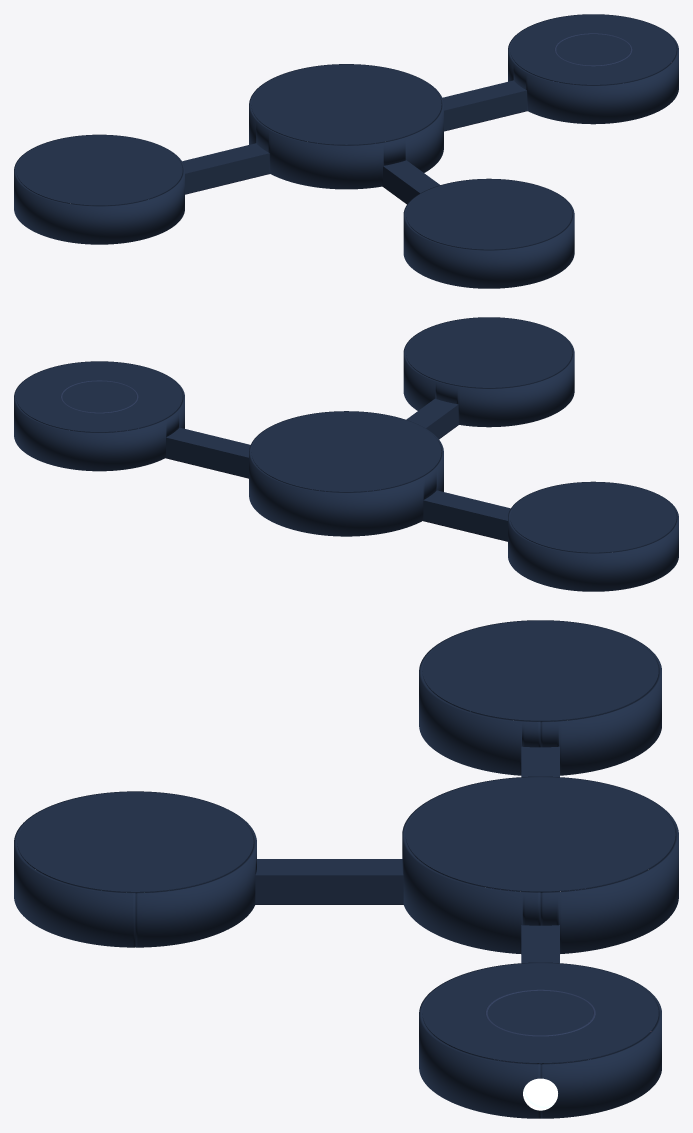
File: UnityNewtonFullEnv_Backup.fbx
3 renders of one model, top to bottom at view 1: azimuth 30°, elevation 25°; view 2: azimuth 150°, elevation 25°; view 3: azimuth 270°, elevation 25°, orthographic. The views are drawn at different scales.
Visible parts, largest first — view 1: Ceiling, Ceiling.002, Ceiling.003, Ceiling.001, MainLobby_Wall, TutorialRoom_Wall, ResultsRoom_Wall, BriefingRoom_Wall, Wall.003, Wall, Ceil.001, Ceil (+2 smaller); view 2: Ceiling, Ceiling.003, Ceiling.002, Ceiling.001, MainLobby_Wall, ResultsRoom_Wall, BriefingRoom_Wall, TutorialRoom_Wall, Wall.002, Wall.001, Ceil.001, Ceil (+2 smaller); view 3: Ceiling, Ceiling.003, Ceiling.002, Ceiling.001, MainLobby_Wall, TutorialRoom_Wall, BriefingRoom_Wall, ResultsRoom_Wall, Wall.005, Ceil.002, Ceil, Ceil.001 (+1 smaller).
Boxes of the visible parts, bbox=[...] form: Ceiling: bbox=[251, 64, 441, 145]; Ceiling.002: bbox=[16, 135, 182, 205]; Ceiling.003: bbox=[406, 179, 572, 249]; Ceiling.001: bbox=[510, 14, 676, 85]; MainLobby_Wall: bbox=[249, 64, 443, 189]; TutorialRoom_Wall: bbox=[403, 178, 574, 288]; ResultsRoom_Wall: bbox=[14, 134, 184, 244]; BriefingRoom_Wall: bbox=[508, 14, 678, 124]; Wall.003: bbox=[185, 154, 269, 193]; Wall: bbox=[444, 91, 526, 130]; Ceil.001: bbox=[182, 143, 269, 174]; Ceil: bbox=[442, 80, 526, 111]; Ceiling: bbox=[251, 411, 441, 492]; Ceiling.003: bbox=[406, 317, 572, 388]; Ceiling.002: bbox=[510, 482, 676, 552]; Ceiling.001: bbox=[16, 361, 182, 432]; MainLobby_Wall: bbox=[249, 411, 443, 536]; ResultsRoom_Wall: bbox=[508, 481, 678, 591]; BriefingRoom_Wall: bbox=[14, 361, 184, 471]; TutorialRoom_Wall: bbox=[403, 317, 574, 427]; Wall.002: bbox=[423, 501, 507, 541]; Wall.001: bbox=[166, 438, 248, 477]; Ceil.001: bbox=[423, 490, 510, 521]; Ceil: bbox=[166, 427, 250, 458]; Ceiling: bbox=[405, 777, 675, 891]; Ceiling.003: bbox=[17, 792, 253, 892]; Ceiling.002: bbox=[422, 621, 658, 721]; Ceiling.001: bbox=[422, 963, 658, 1063]; MainLobby_Wall: bbox=[402, 776, 678, 953]; TutorialRoom_Wall: bbox=[14, 791, 256, 947]; BriefingRoom_Wall: bbox=[419, 962, 661, 1118]; ResultsRoom_Wall: bbox=[419, 620, 661, 775]; Wall.005: bbox=[255, 877, 403, 904]; Ceil.002: bbox=[255, 859, 403, 876]; Ceil: bbox=[521, 925, 559, 963]; Ceil.001: bbox=[521, 746, 559, 776].
Bounding box in the file's own units: 12650 × 826 × 7880.
